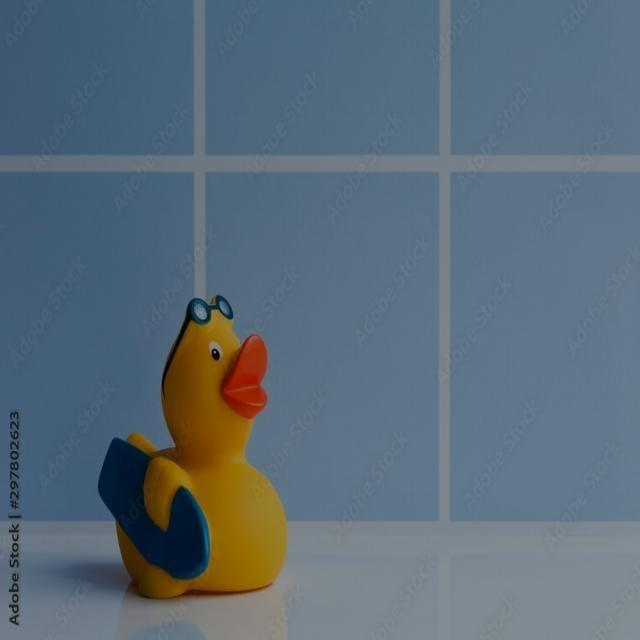rubber-duck: (97, 294, 285, 596)
